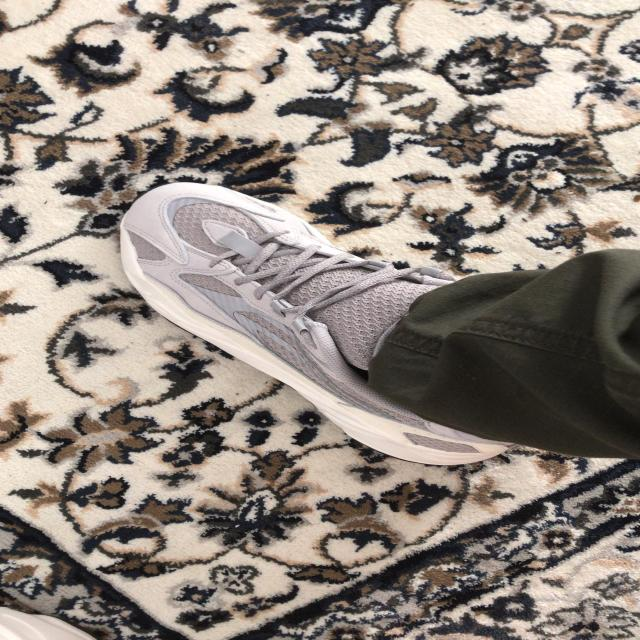shoe: (114, 181, 528, 468)
